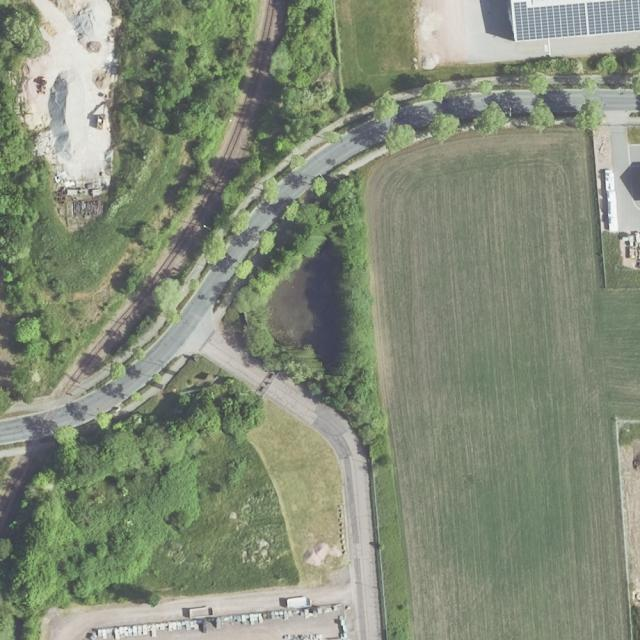PV: (512, 0, 639, 43)
